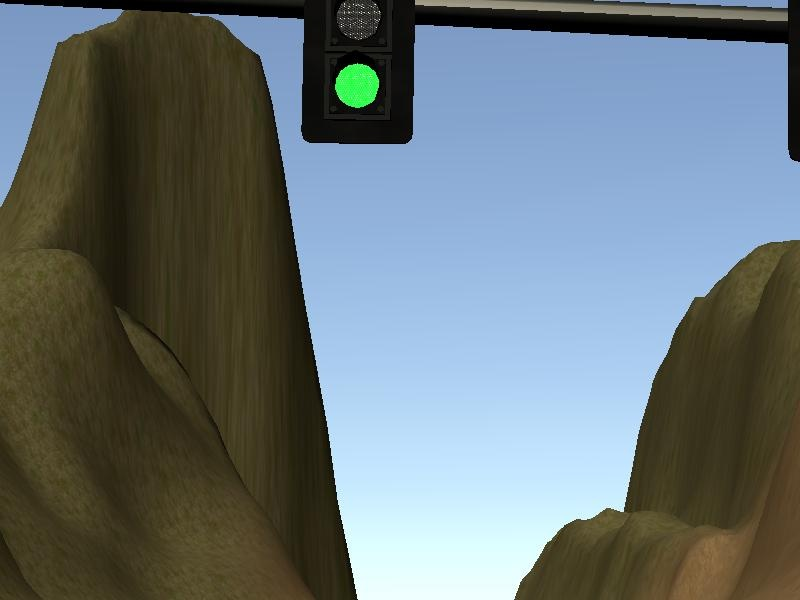traffic_light_green: (1, 1, 800, 163)
